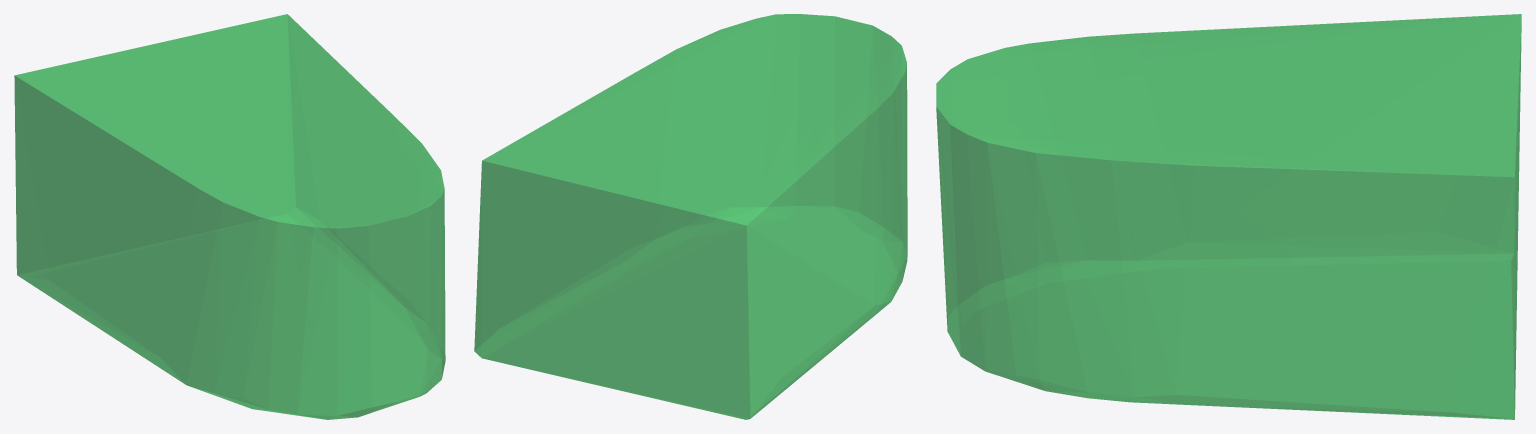
3 views of the same model, side by side, from view 1: azimuth 30°, elevation 25°; view 2: azimuth 150°, elevation 25°; view 3: azimuth 270°, elevation 25° (orthographic). The views are drawn at different scales.
Visible parts, largest first — view 1: Shape_IndexedFaceSet.001_Shape_IndexedFaceSet.8646; view 2: Shape_IndexedFaceSet.001_Shape_IndexedFaceSet.8646; view 3: Shape_IndexedFaceSet.001_Shape_IndexedFaceSet.8646.
Part boxes in pixels (x1,y1,x2,y2): Shape_IndexedFaceSet.001_Shape_IndexedFaceSet.8646: [14, 14, 445, 419]; Shape_IndexedFaceSet.001_Shape_IndexedFaceSet.8646: [474, 14, 907, 419]; Shape_IndexedFaceSet.001_Shape_IndexedFaceSet.8646: [936, 14, 1521, 419].
Bounding box in the file's own units: 0.5186 × 0.3589 × 0.7755.
